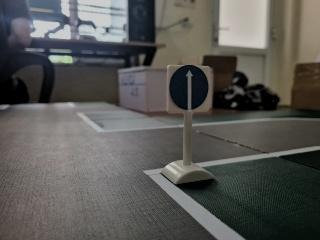straight: (166, 62, 213, 113)
